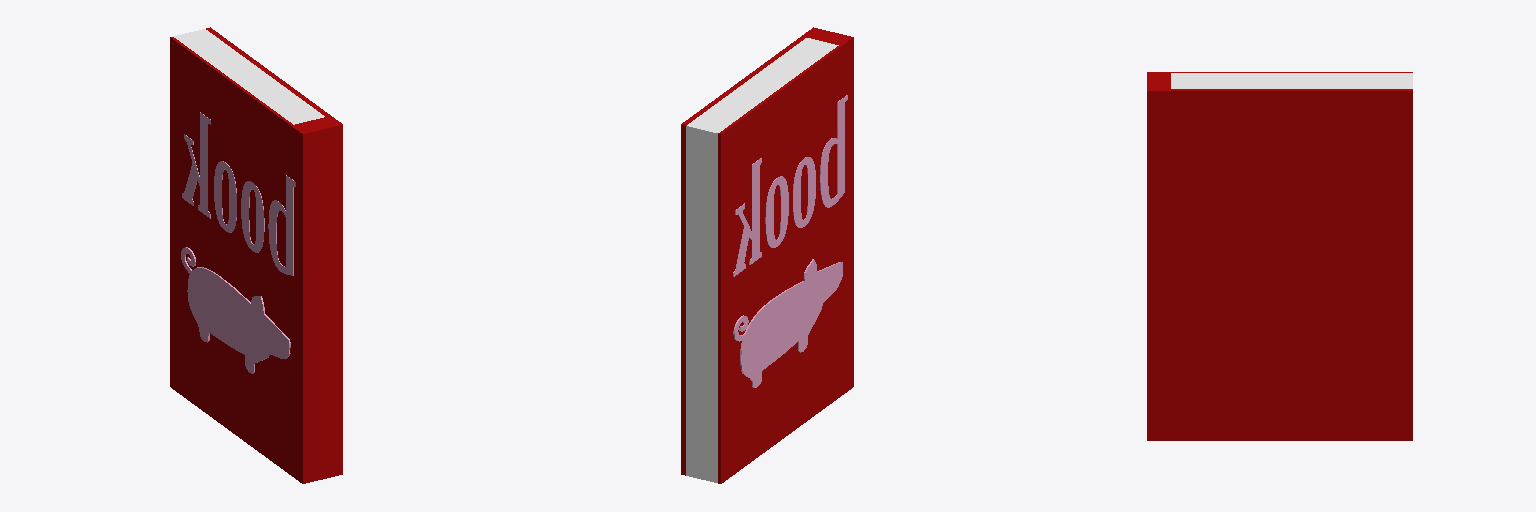
Rendered from RedBook.obj.
3 views of the same model, side by side, from view 1: azimuth 30°, elevation 25°; view 2: azimuth 150°, elevation 25°; view 3: azimuth 270°, elevation 25° (orthographic).
Parts seen in each view (by area): view 1: tinker; view 2: tinker; view 3: tinker.
Part boxes in pixels (bbox=[...]): tinker: bbox=[170, 27, 342, 483]; tinker: bbox=[681, 27, 853, 483]; tinker: bbox=[1147, 72, 1412, 440].
Size of the model in its own units: 2 by 16 by 11.